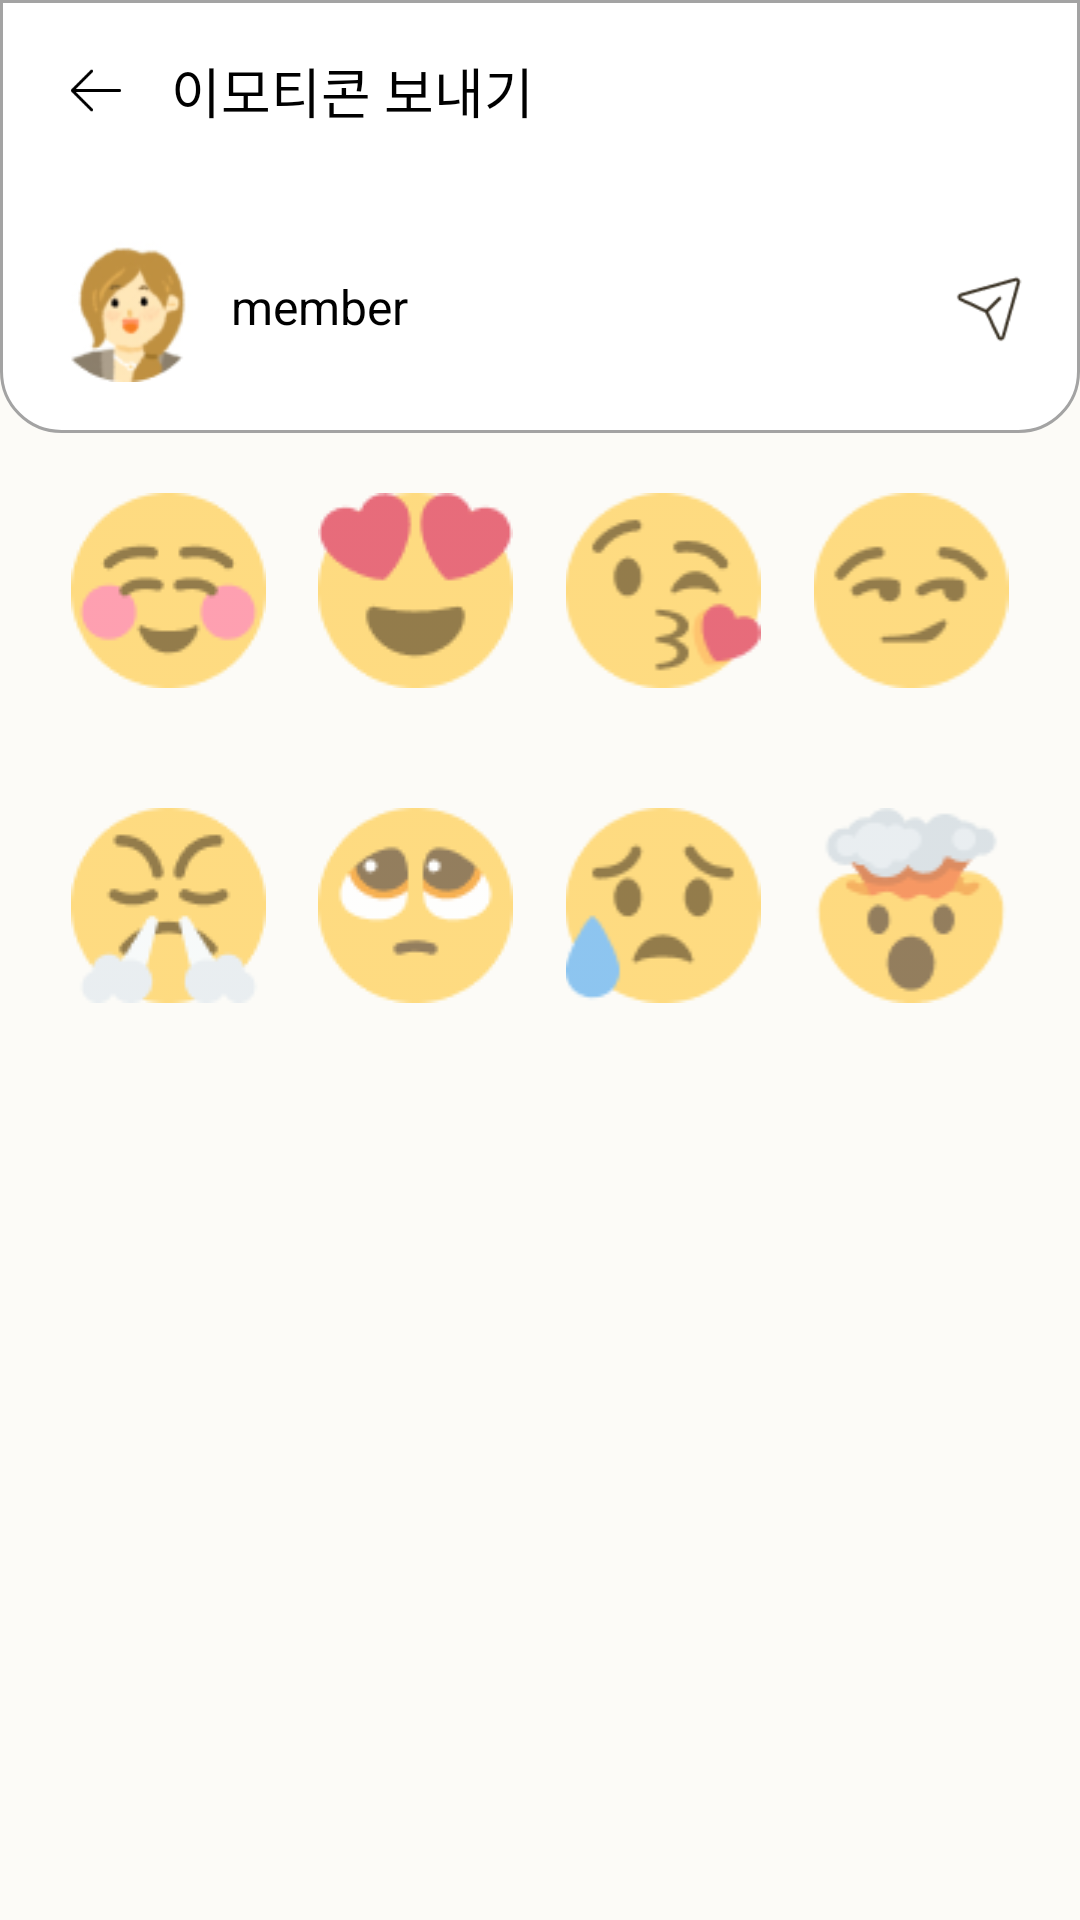

Named icons in this screenshot (1080 × 1920) and their bounding boxes, bbox=[x1, y1, x2, y2]:
back: bbox=[71, 69, 121, 112]
message: bbox=[957, 277, 1021, 341]
sticker: bbox=[71, 493, 266, 688], bbox=[318, 493, 513, 688], bbox=[566, 493, 761, 688], bbox=[814, 493, 1009, 688], bbox=[71, 808, 266, 1003], bbox=[318, 808, 513, 1003], bbox=[566, 808, 761, 1003], bbox=[818, 810, 1004, 1003]
